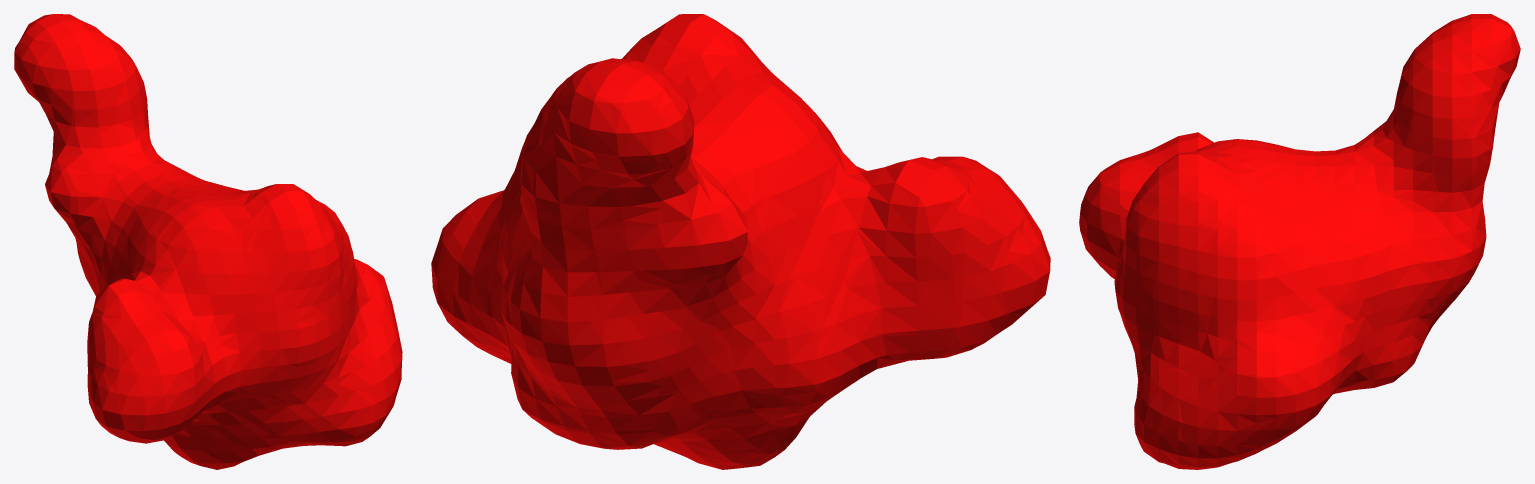
File: rpsS_coarse.dae
3 views of the same model, side by side, from view 1: azimuth 30°, elevation 25°; view 2: azimuth 150°, elevation 25°; view 3: azimuth 270°, elevation 25° (orthographic). The views are drawn at different scales.
Visible parts, largest first — view 1: rpsS; view 2: rpsS; view 3: rpsS.
Part boxes in pixels (<box>): rpsS: <box>14,14,402,469</box>; rpsS: <box>431,14,1050,469</box>; rpsS: <box>1079,14,1520,469</box>.
Bounding box in the file's own units: 40.43 × 40.84 × 42.04.
